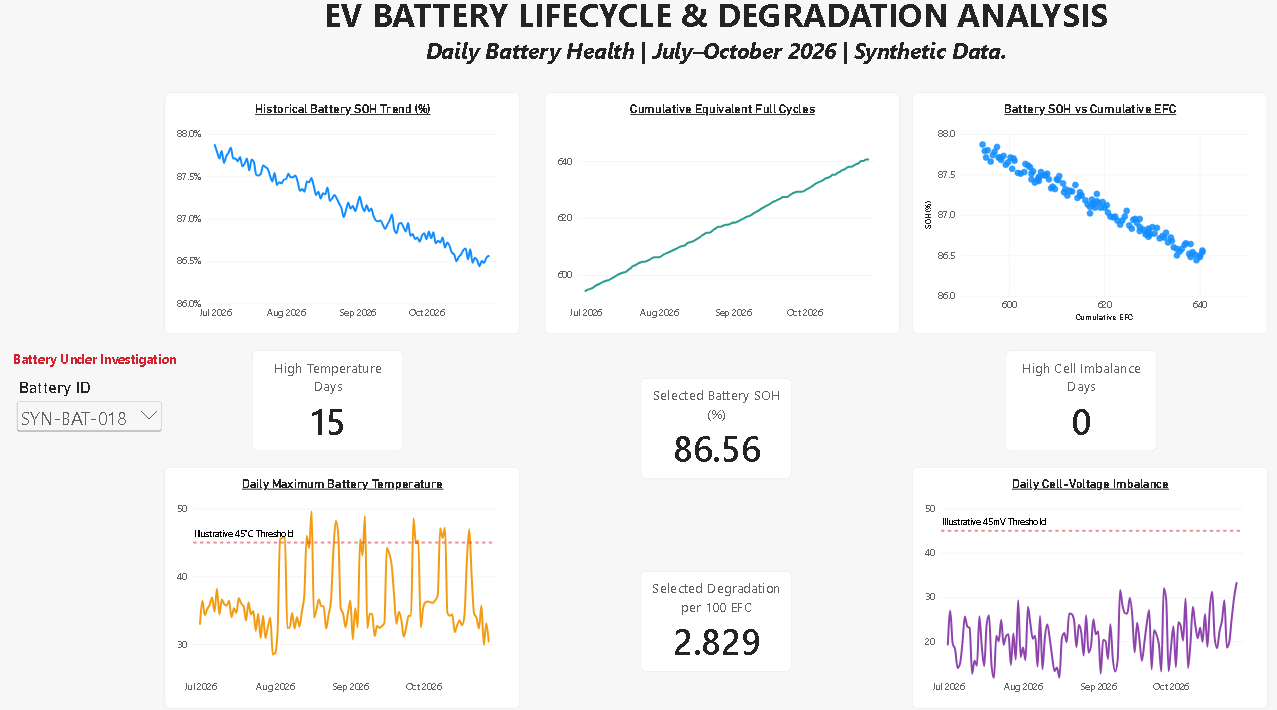

The dashboard page shown, as its layout file describes it:
{"tool":"powerbi","page":{"name":"Battery Lifecycle","canvas":[1920,1080],"ordinal":1},"visuals":[{"type":"textbox","box":[287.2,2.1,1576.3,128.1],"z":0},{"type":"lineChart","title":"Historical Battery SOH Trend (%)","fields":{"Category":["BatteryDaily.reading_date"],"Y":["BatteryDaily.Average Daily SOH %"]},"box":[254.1,167.4,528.9,359.5],"z":1000},{"type":"slicer","fields":{"Values":["BatteryFleet.battery_id"]},"box":[28.9,559.9,225.2,105.4],"z":2000},{"type":"lineChart","title":"Cumulative Equivalent Full Cycles","fields":{"Category":["BatteryDaily.reading_date"],"Y":["BatteryDaily.Cumulative EFC"]},"box":[820.2,167.4,528,359.5],"z":3000},{"type":"scatterChart","title":"Battery SOH vs Cumulative EFC","fields":{"Category":["BatteryDaily.reading_date"],"X":["Avg(BatteryDaily.CumulativeEFC)"],"Y":["Avg(BatteryDaily.DailySOH)"]},"box":[1367.7,167.3,528,359.5],"z":4000},{"type":"lineChart","title":"Daily Maximum Battery Temperature","fields":{"Category":["BatteryDaily.reading_date"],"Y":["BatteryDaily.Daily Maximum Temperature °C"]},"box":[254.1,720.5,528.9,359.5],"z":5000},{"type":"cardVisual","fields":{"Data":["BatteryDaily.High Temperature Days"]},"box":[383.7,548.2,225,150],"z":6000},{"type":"lineChart","title":"Daily Cell-Voltage Imbalance","fields":{"Category":["BatteryDaily.reading_date"],"Y":["BatteryDaily.Daily Cell Voltage Delta mV"]},"box":[1367.7,721,528.9,359.5],"z":7000},{"type":"cardVisual","fields":{"Data":["BatteryDaily.High Cell Imbalance Days"]},"box":[1506.1,547.5,225,150],"z":8000},{"type":"cardVisual","fields":{"Data":["BatteryDaily.Selected Battery SOH"]},"box":[962.8,588.8,225,150],"z":9000},{"type":"cardVisual","fields":{"Data":["BatteryDaily.Selected Degradation per 100 EFC"]},"box":[962.8,876,225,150],"z":10000}]}

Visuals, with their boxes in screenshot pixels (x1, y1, x2, y2), scaled from the page's 1920x1080 canvas onto the 1277x710 screenshot:
textbox: left=191, top=1, right=1239, bottom=86
"Historical Battery SOH Trend (%)" lineChart: left=169, top=110, right=521, bottom=346
slicer - BatteryFleet.battery_id: left=19, top=368, right=169, bottom=437
"Cumulative Equivalent Full Cycles" lineChart: left=546, top=110, right=897, bottom=346
"Battery SOH vs Cumulative EFC" scatterChart: left=910, top=110, right=1261, bottom=346
"Daily Maximum Battery Temperature" lineChart: left=169, top=474, right=521, bottom=709
cardVisual - BatteryDaily.High Temperature Days: left=255, top=360, right=405, bottom=459
"Daily Cell-Voltage Imbalance" lineChart: left=910, top=474, right=1261, bottom=709
cardVisual - BatteryDaily.High Cell Imbalance Days: left=1002, top=360, right=1151, bottom=459
cardVisual - BatteryDaily.Selected Battery SOH: left=640, top=387, right=790, bottom=486
cardVisual - BatteryDaily.Selected Degradation per 100 EFC: left=640, top=576, right=790, bottom=674
